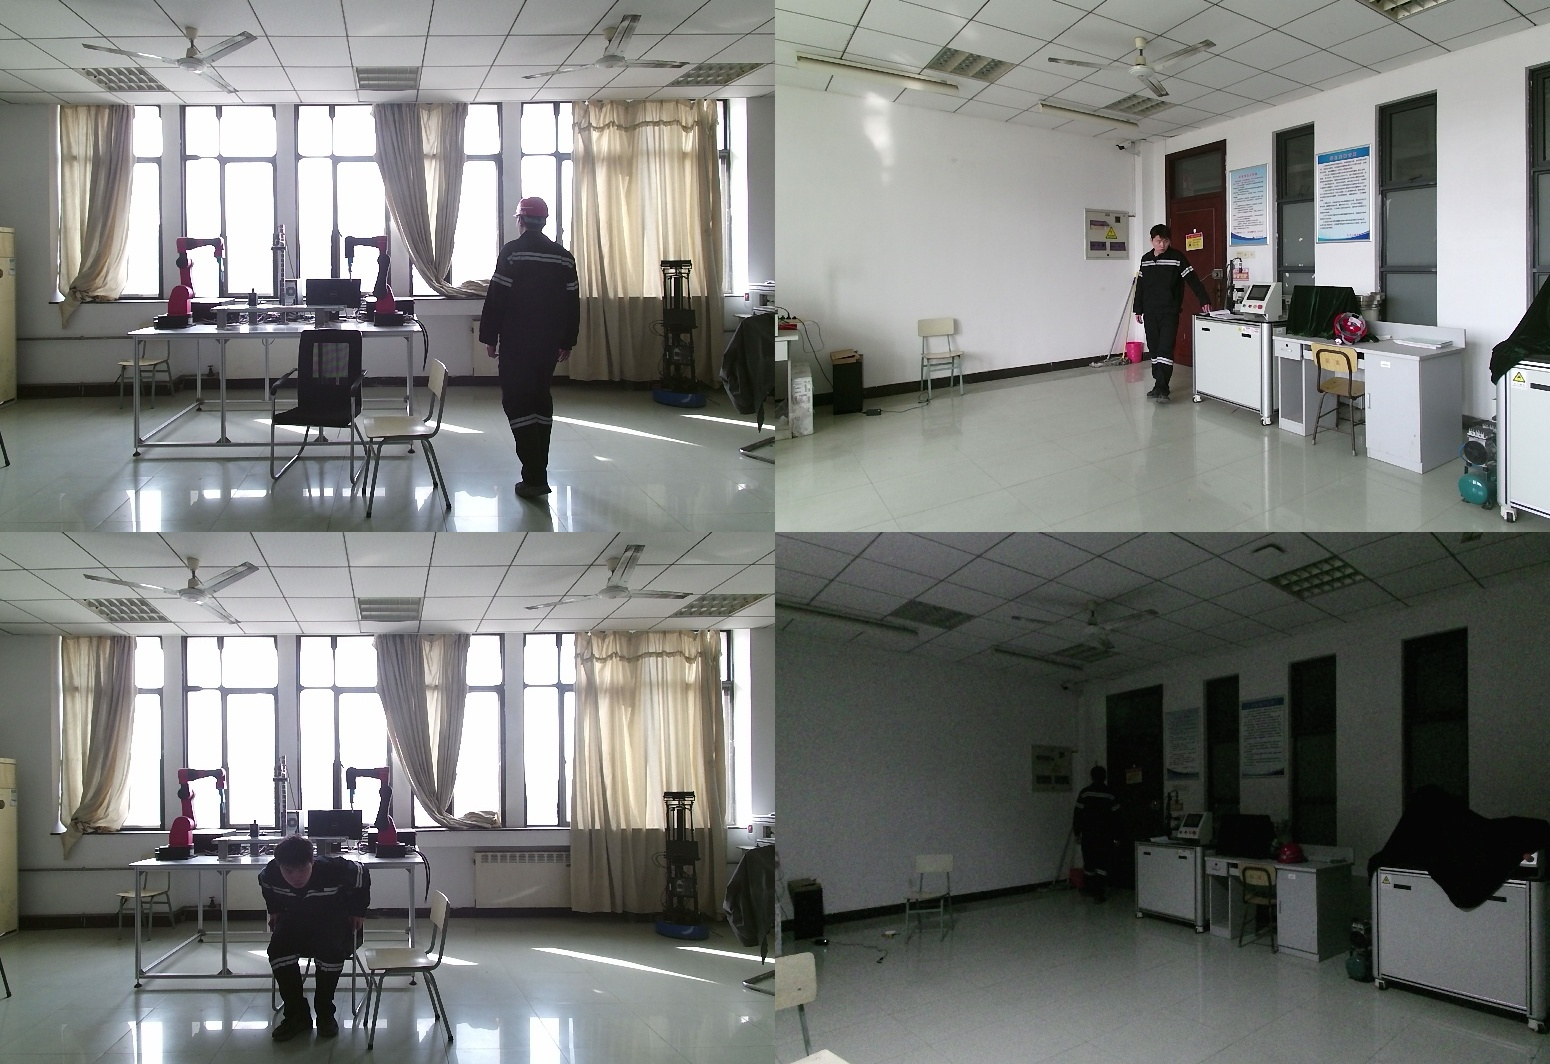person: (483, 195, 598, 500), (259, 835, 380, 1039), (1137, 226, 1213, 408), (1070, 767, 1127, 908)
